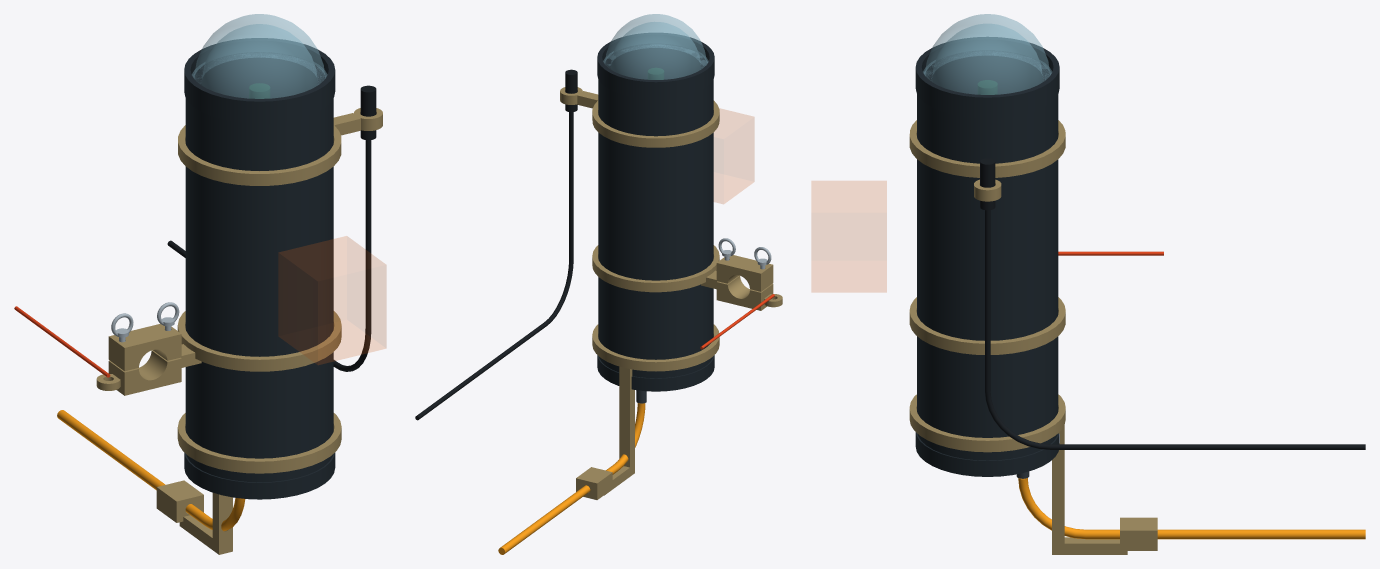
Rendered from INTRFACE_PASSIVE_V3.glb.
The picture shows the model from 3 angles, left to right: view 1: azimuth 30°, elevation 25°; view 2: azimuth 150°, elevation 25°; view 3: azimuth 270°, elevation 25°; orthographic projection. The views are drawn at different scales.
Parts seen in each view (by area): view 1: V3_TUBE_AL6061_BR106279_300, EMPTY_FUTURE_PROJECTOR_MOUNT_ENVELOPE, V3_DOME_POLYCARBONATE_BR107201, V3_TETHER_NONMETAL_STRAIN_RELIEF_CONCEPT, V3_FLANGE_FORWARD_SOURCE_ID_CONFLICT, V3_LONGLINE_FIXED_JAW_SADDLE_LANYARD_LUG, V3_DOME_RETAINING_RING_ALUMINIUM, V3_AS1_NONMETAL_STANDOFF_BRACKET, V3_DIVER_RELEASE_MOVING_JAW, V3_FATHOM_TETHER_SURFACE_ROUTE_CONCEPT, V3_AS1_ANALOG_CABLE_DRY_HUB_ROUTE_CONCEPT, V3_FLANGE_AFT_SOURCE_ID_CONFLICT (+3 smaller); view 2: V3_TUBE_AL6061_BR106279_300, V3_DOME_POLYCARBONATE_BR107201, V3_TETHER_NONMETAL_STRAIN_RELIEF_CONCEPT, V3_FLANGE_FORWARD_SOURCE_ID_CONFLICT, EMPTY_FUTURE_PROJECTOR_MOUNT_ENVELOPE, V3_LONGLINE_FIXED_JAW_SADDLE_LANYARD_LUG, V3_DOME_RETAINING_RING_ALUMINIUM, V3_AS1_NONMETAL_STANDOFF_BRACKET, V3_AS1_ANALOG_CABLE_DRY_HUB_ROUTE_CONCEPT, V3_FATHOM_TETHER_SURFACE_ROUTE_CONCEPT, V3_DIVER_RELEASE_MOVING_JAW, V3_FLANGE_AFT_SOURCE_ID_CONFLICT (+1 smaller); view 3: V3_TUBE_AL6061_BR106279_300, EMPTY_FUTURE_PROJECTOR_MOUNT_ENVELOPE, V3_DOME_POLYCARBONATE_BR107201, V3_TETHER_NONMETAL_STRAIN_RELIEF_CONCEPT, V3_FLANGE_FORWARD_SOURCE_ID_CONFLICT, V3_DOME_RETAINING_RING_ALUMINIUM, V3_AS1_ANALOG_CABLE_DRY_HUB_ROUTE_CONCEPT, V3_FATHOM_TETHER_SURFACE_ROUTE_CONCEPT, V3_AS1_NONMETAL_STANDOFF_BRACKET, V3_LONGLINE_FIXED_JAW_SADDLE_LANYARD_LUG, V3_FLANGE_AFT_SOURCE_ID_CONFLICT, V3_AFT_CAP_5_M10_AL6061.
Part boxes in pixels (x1=…): V3_TUBE_AL6061_BR106279_300: x1=185, y1=90, x2=333, y2=482; EMPTY_FUTURE_PROJECTOR_MOUNT_ENVELOPE: x1=278, y1=236, x2=386, y2=364; V3_DOME_POLYCARBONATE_BR107201: x1=192, y1=14, x2=327, y2=98; V3_TETHER_NONMETAL_STRAIN_RELIEF_CONCEPT: x1=156, y1=413, x2=341, y2=554; V3_FLANGE_FORWARD_SOURCE_ID_CONFLICT: x1=184, y1=53, x2=335, y2=123; V3_LONGLINE_FIXED_JAW_SADDLE_LANYARD_LUG: x1=96, y1=311, x2=341, y2=395; V3_DOME_RETAINING_RING_ALUMINIUM: x1=184, y1=38, x2=335, y2=113; V3_AS1_NONMETAL_STANDOFF_BRACKET: x1=178, y1=108, x2=382, y2=185; V3_DIVER_RELEASE_MOVING_JAW: x1=108, y1=324, x2=181, y2=371; V3_FATHOM_TETHER_SURFACE_ROUTE_CONCEPT: x1=57, y1=410, x2=245, y2=531; V3_AS1_ANALOG_CABLE_DRY_HUB_ROUTE_CONCEPT: x1=167, y1=140, x2=371, y2=371; V3_FLANGE_AFT_SOURCE_ID_CONFLICT: x1=184, y1=452, x2=335, y2=492; V3_TUBE_AL6061_BR106279_300: x1=598, y1=73, x2=713, y2=378; V3_DOME_POLYCARBONATE_BR107201: x1=603, y1=14, x2=708, y2=79; V3_TETHER_NONMETAL_STRAIN_RELIEF_CONCEPT: x1=576, y1=324, x2=719, y2=499; V3_FLANGE_FORWARD_SOURCE_ID_CONFLICT: x1=597, y1=44, x2=714, y2=99; EMPTY_FUTURE_PROJECTOR_MOUNT_ENVELOPE: x1=714, y1=108, x2=754, y2=203; V3_LONGLINE_FIXED_JAW_SADDLE_LANYARD_LUG: x1=592, y1=245, x2=782, y2=310; V3_DOME_RETAINING_RING_ALUMINIUM: x1=597, y1=33, x2=714, y2=91; V3_AS1_NONMETAL_STANDOFF_BRACKET: x1=560, y1=87, x2=719, y2=147; V3_AS1_ANALOG_CABLE_DRY_HUB_ROUTE_CONCEPT: x1=415, y1=112, x2=573, y2=420; V3_FATHOM_TETHER_SURFACE_ROUTE_CONCEPT: x1=498, y1=403, x2=645, y2=554; V3_DIVER_RELEASE_MOVING_JAW: x1=716, y1=255, x2=773, y2=291; V3_FLANGE_AFT_SOURCE_ID_CONFLICT: x1=597, y1=355, x2=714, y2=385; V3_TUBE_AL6061_BR106279_300: x1=917, y1=87, x2=1058, y2=460; EMPTY_FUTURE_PROJECTOR_MOUNT_ENVELOPE: x1=811, y1=181, x2=886, y2=292; V3_DOME_POLYCARBONATE_BR107201: x1=923, y1=14, x2=1051, y2=94; V3_TETHER_NONMETAL_STRAIN_RELIEF_CONCEPT: x1=909, y1=394, x2=1157, y2=554; V3_FLANGE_FORWARD_SOURCE_ID_CONFLICT: x1=915, y1=51, x2=1059, y2=118; V3_DOME_RETAINING_RING_ALUMINIUM: x1=915, y1=37, x2=1059, y2=109; V3_AS1_ANALOG_CABLE_DRY_HUB_ROUTE_CONCEPT: x1=985, y1=210, x2=1365, y2=449; V3_FATHOM_TETHER_SURFACE_ROUTE_CONCEPT: x1=1018, y1=478, x2=1365, y2=539; V3_AS1_NONMETAL_STANDOFF_BRACKET: x1=909, y1=120, x2=1065, y2=201; V3_LONGLINE_FIXED_JAW_SADDLE_LANYARD_LUG: x1=909, y1=297, x2=1065, y2=354; V3_FLANGE_AFT_SOURCE_ID_CONFLICT: x1=915, y1=432, x2=1059, y2=470; V3_AFT_CAP_5_M10_AL6061: x1=915, y1=441, x2=1059, y2=476.
Size of the model in its own units: 0.247 by 0.4657 by 0.44.
